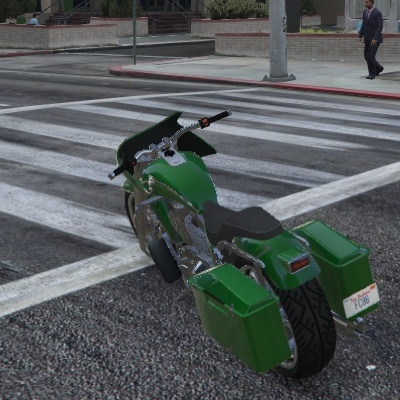off: (286, 249, 318, 280)
